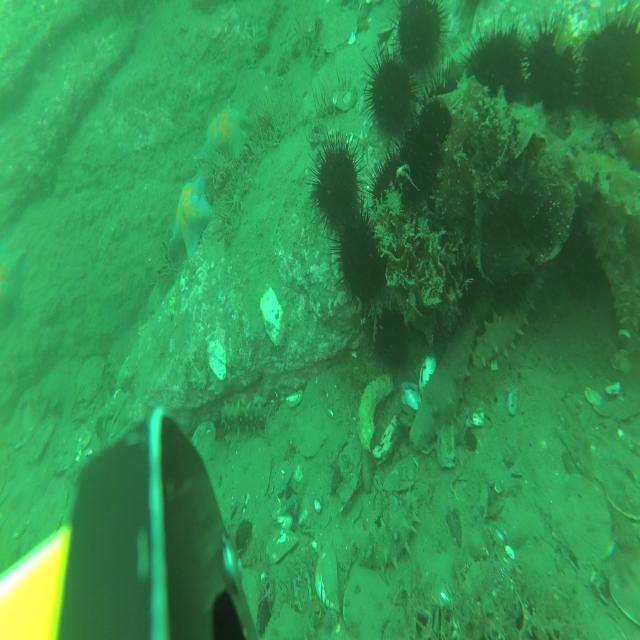echinus: (580, 2, 640, 132), (468, 15, 528, 130), (560, 190, 617, 308), (523, 15, 581, 130), (362, 39, 420, 151), (310, 130, 366, 238), (337, 204, 386, 320), (418, 61, 468, 159), (390, 0, 450, 81), (396, 117, 442, 212), (486, 238, 536, 319), (367, 294, 410, 384), (370, 146, 412, 226), (452, 231, 492, 306)
holothurian: (409, 282, 494, 455), (472, 266, 546, 373), (350, 488, 418, 572), (463, 553, 523, 615), (220, 399, 278, 437)
scallop: (555, 472, 614, 574), (343, 569, 393, 640), (20, 483, 65, 560), (610, 554, 640, 626), (607, 469, 640, 521), (74, 354, 106, 407), (323, 10, 358, 54), (188, 421, 216, 470), (369, 4, 399, 35)
starfish: (195, 104, 253, 167), (171, 172, 211, 262), (0, 239, 26, 331)
